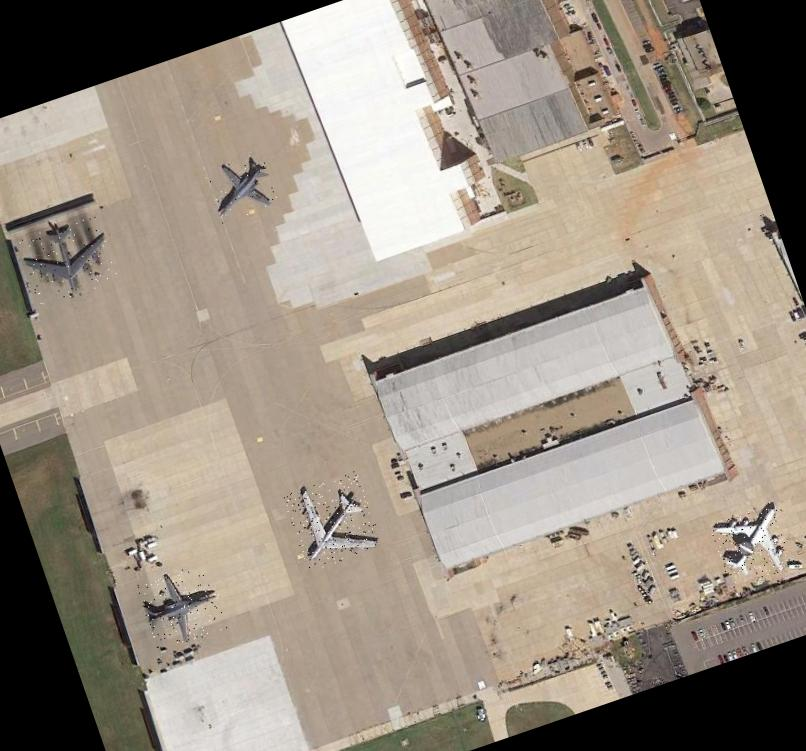A10: (135, 560, 227, 650), (203, 149, 279, 223)
A7: (708, 500, 796, 588)
A8: (282, 469, 384, 572), (14, 210, 121, 307)
